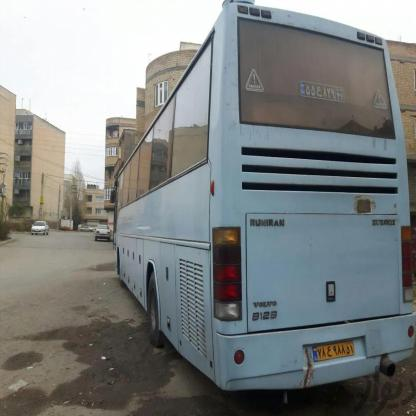Bus: (113, 0, 416, 416)
Car: (92, 220, 114, 245), (30, 220, 51, 238)
